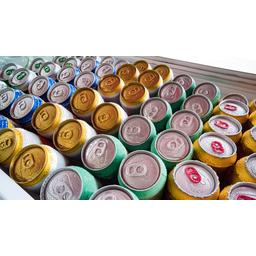metal: (31, 161, 93, 208), (113, 139, 157, 198), (48, 111, 90, 159), (76, 127, 119, 172), (10, 140, 49, 178), (85, 177, 128, 211)
